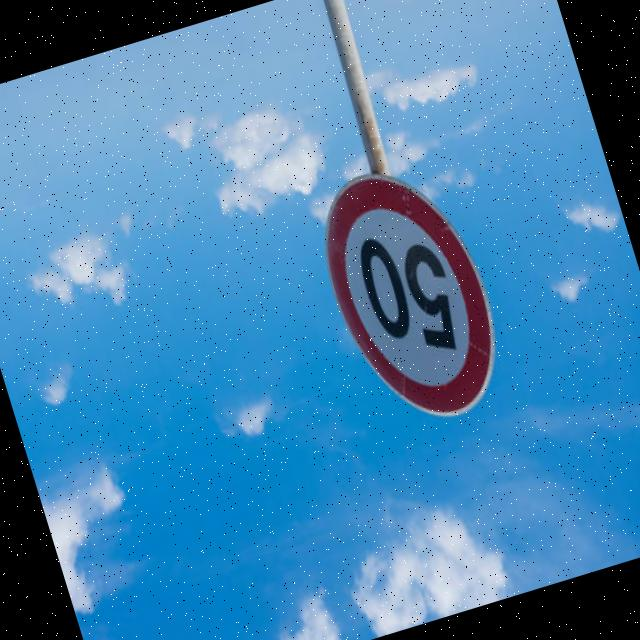speed_limit_50: (274, 140, 529, 459)
